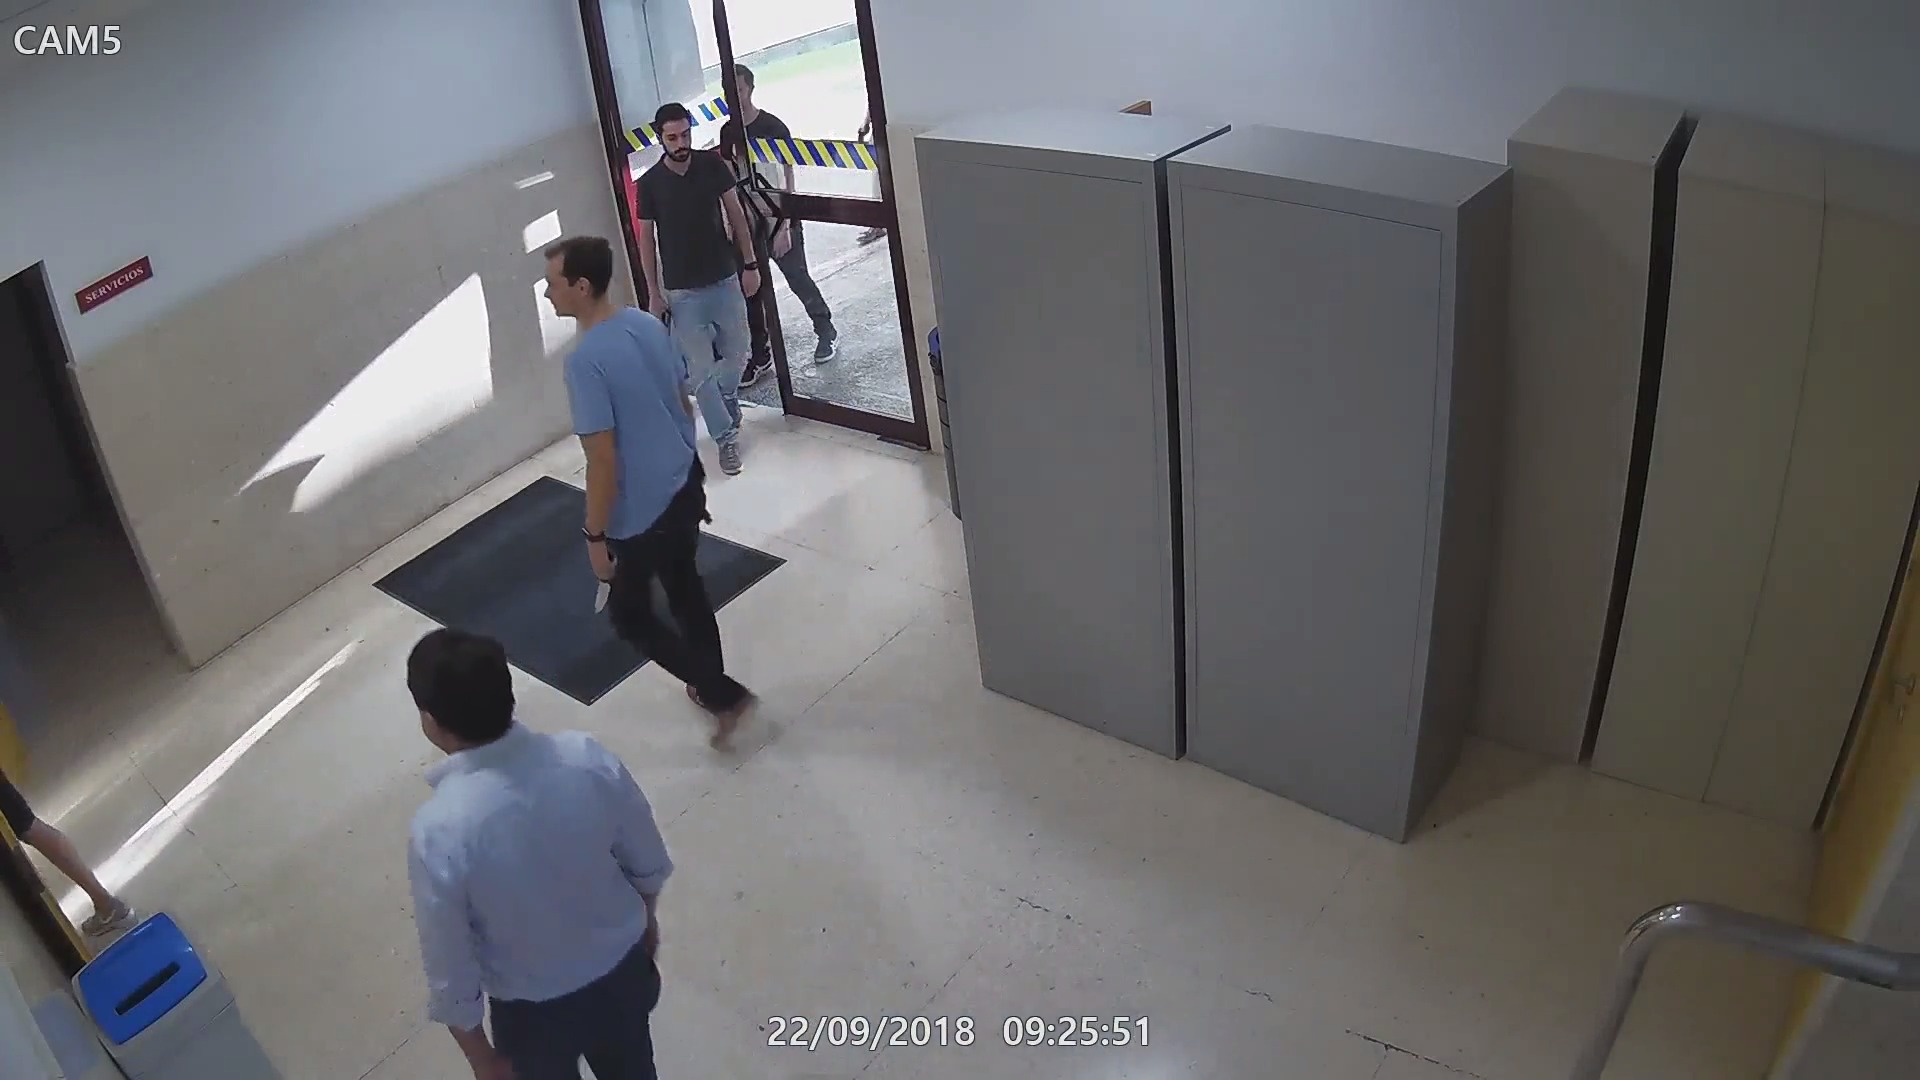Handgun: (647, 297, 675, 342)
Knife: (587, 530, 615, 613)
